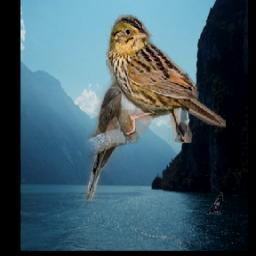Crow: (207, 192, 224, 215)
Cuckoo: (85, 66, 147, 202)
Sparrow: (107, 15, 227, 143)
